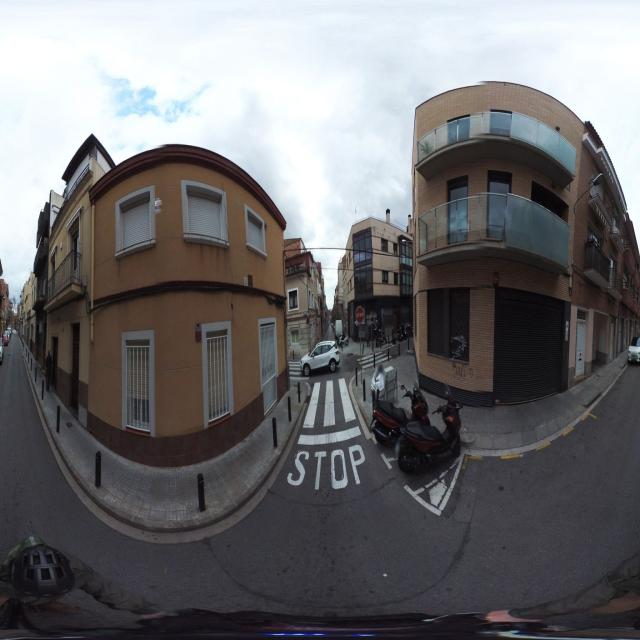forb_stopping: (306, 317, 309, 325)
